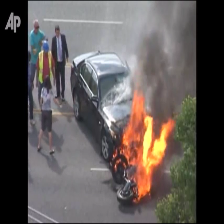fire_h: (118, 91, 175, 202)
fire_l: (114, 158, 127, 171), (111, 145, 118, 164)
